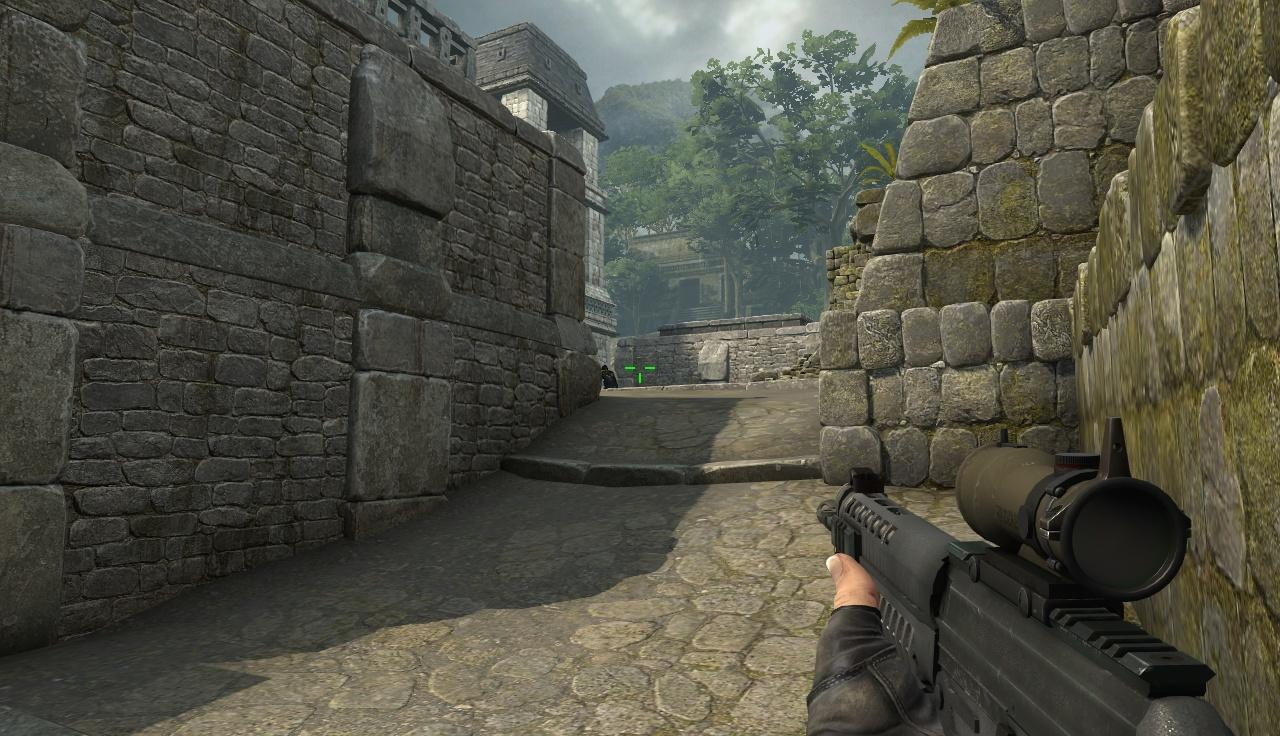ct: (601, 365, 618, 388)
cthead: (602, 365, 609, 374)
rifle: (826, 442, 1280, 732)
